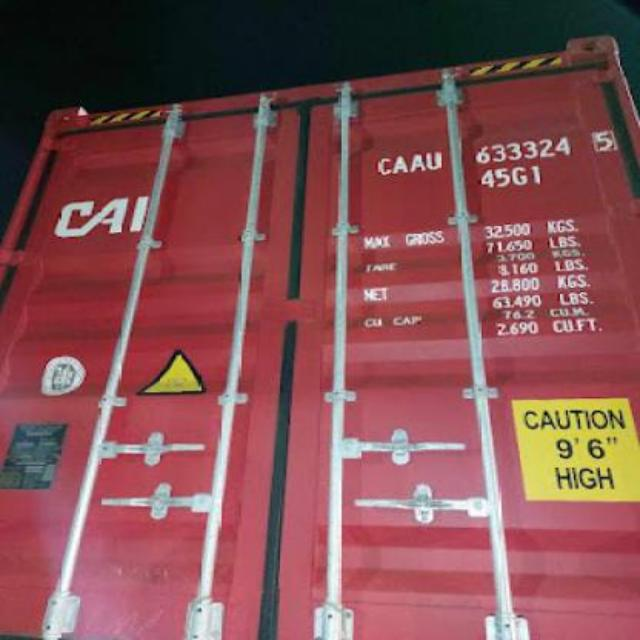2: (538, 138, 558, 158)
3: (504, 143, 526, 161), (522, 138, 540, 160), (490, 144, 508, 164)
4: (554, 134, 570, 156)
5: (596, 132, 614, 150)
6: (474, 145, 492, 165)
A: (410, 150, 426, 173), (392, 154, 410, 174)
C: (372, 154, 392, 176)
U: (424, 150, 442, 170)
